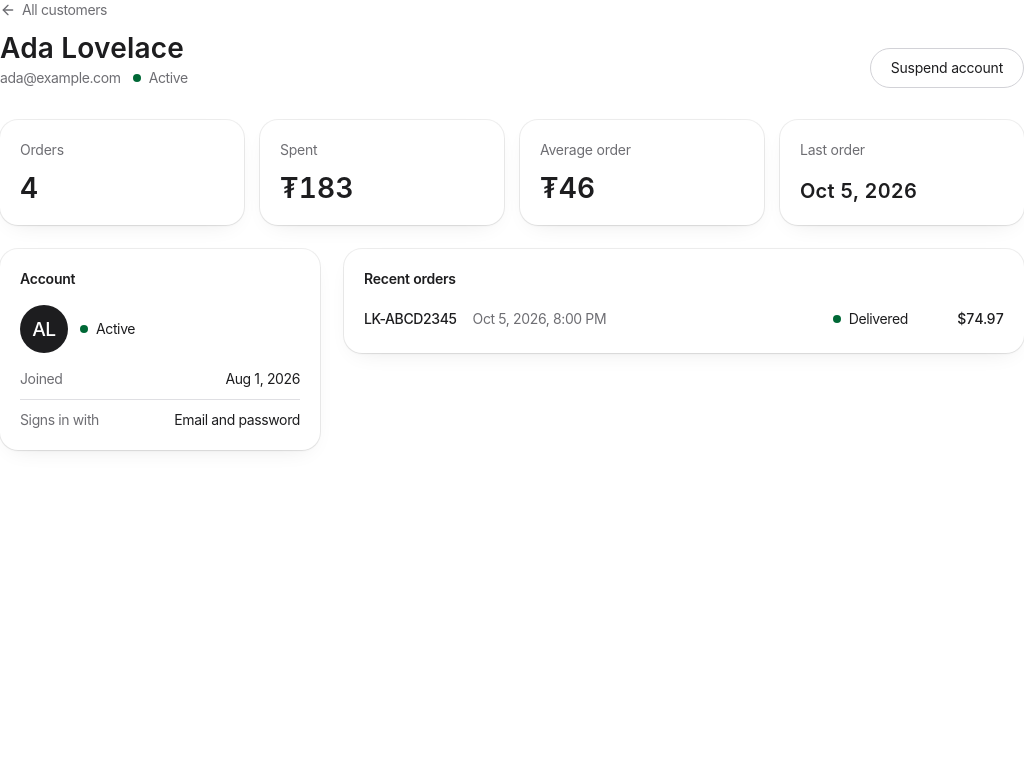
Test: CustomerView › asks before suspending, then suspends
This screenshot has width=1024, height=768.
Click the button "Suspend account". click: coordinates (947, 68)
box: [870,48,1023,88]
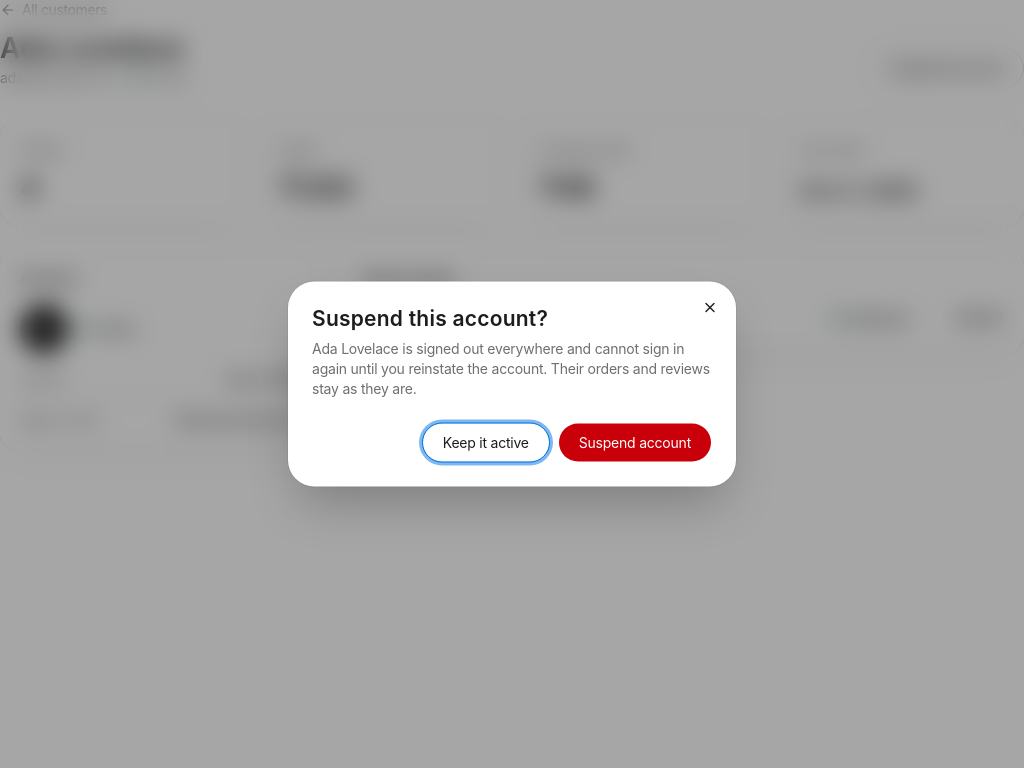
Check: the dialog shows "signed out everywhere", box [312,340,710,396]
Click the button "Suspend account". click: coordinates (635, 442)
box: [558,422,712,462]
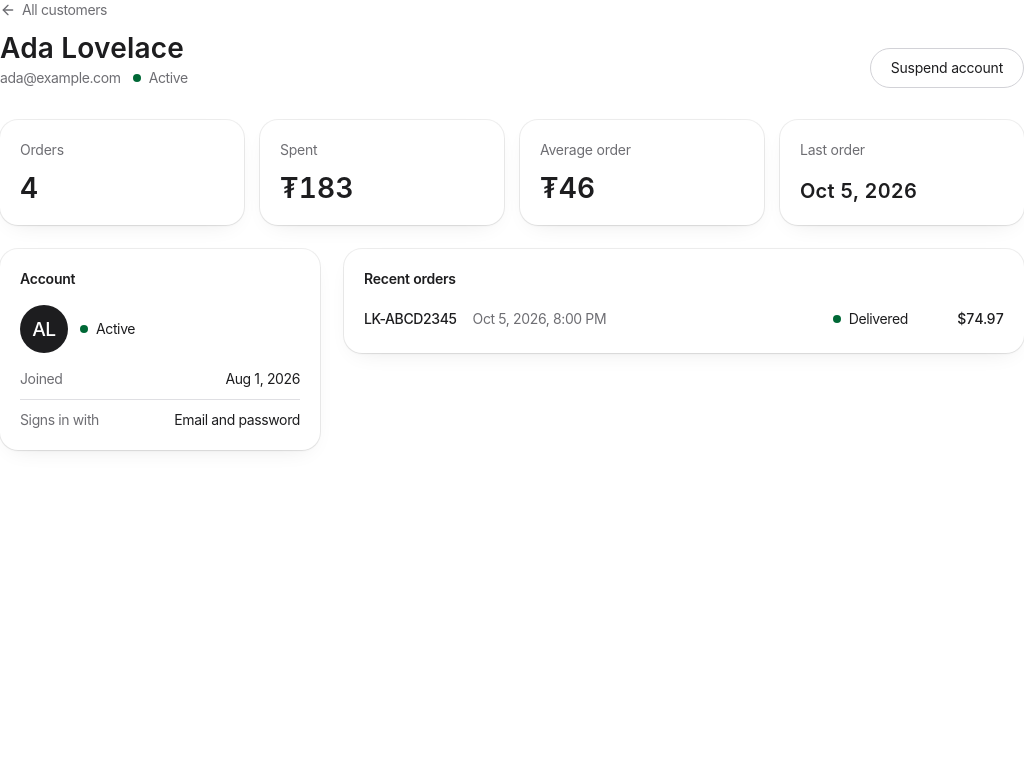
Check: the dialog is gone
